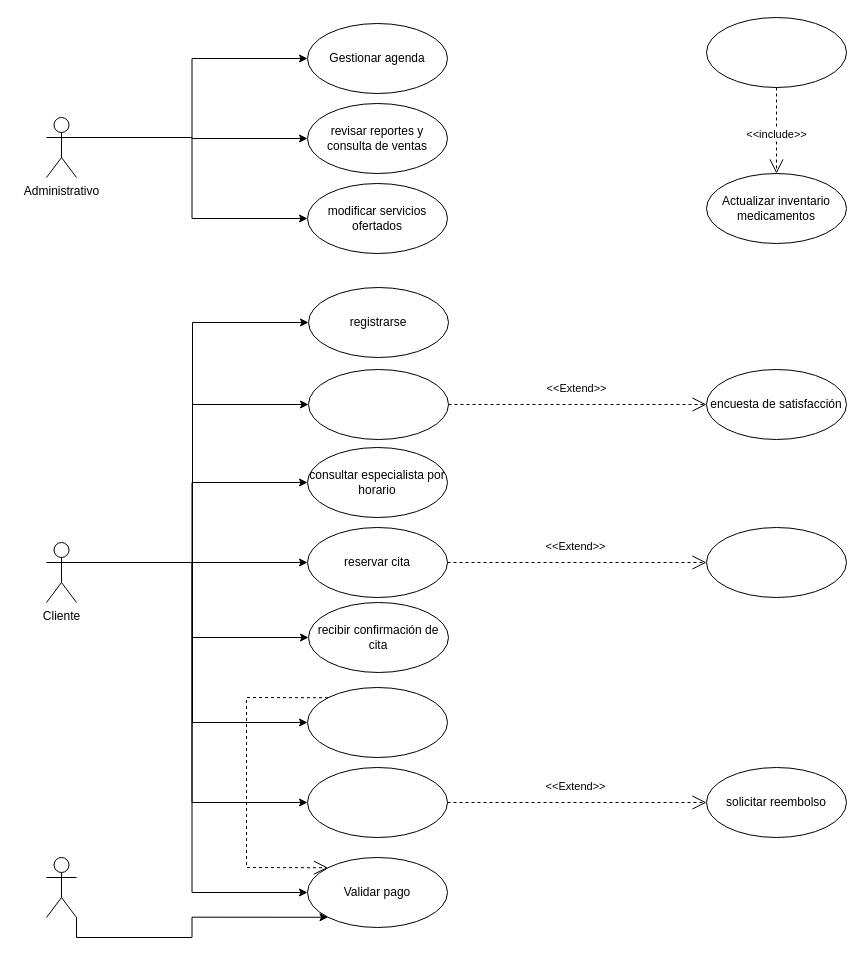
Some shapes in this 864 by 963 pixel diagram are drawn without their labels. The centre of each missing label's shape, as x and y in pixels:
"adjuntar historial medico" belongs at (x=776, y=562).
"Atención en linea" belongs at (x=378, y=404).
"cancelar cita" belongs at (x=377, y=802).
"consulta veterinaria" belongs at (x=776, y=52).
"Realizar pago" belongs at (x=377, y=722).
"sistema de pago" belongs at (x=61, y=887).
